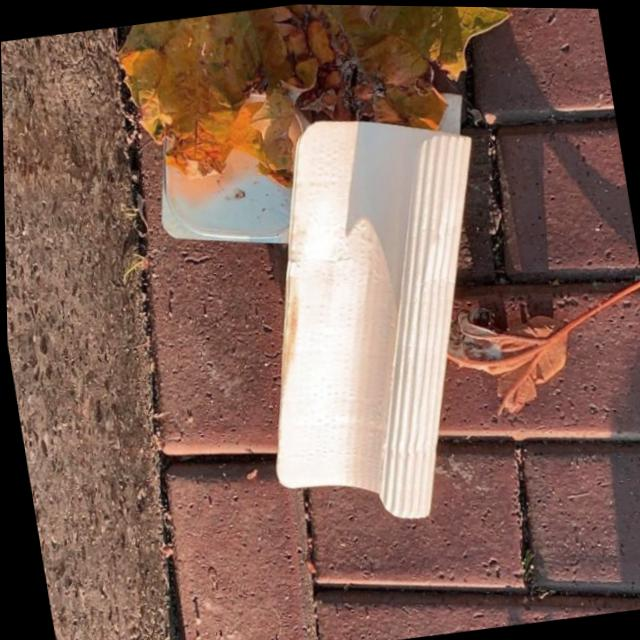Paper: (215, 95, 536, 543)
